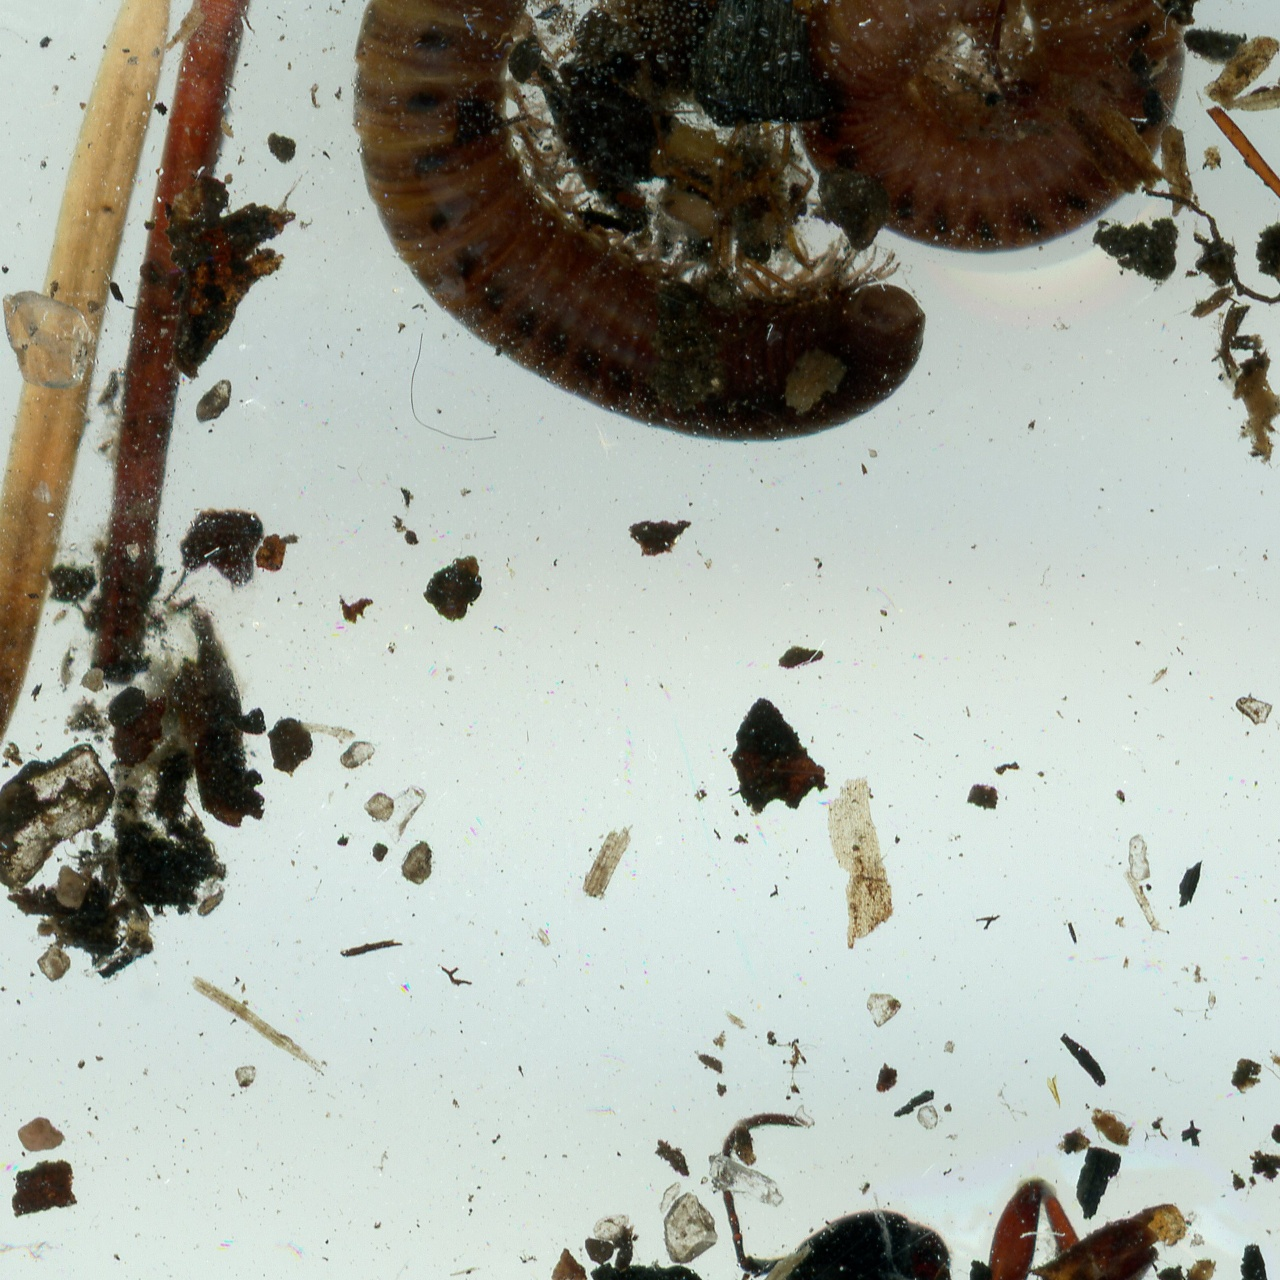arthropod: (341, 0, 1186, 445), (715, 1110, 1269, 1280), (1088, 1102, 1139, 1150)
